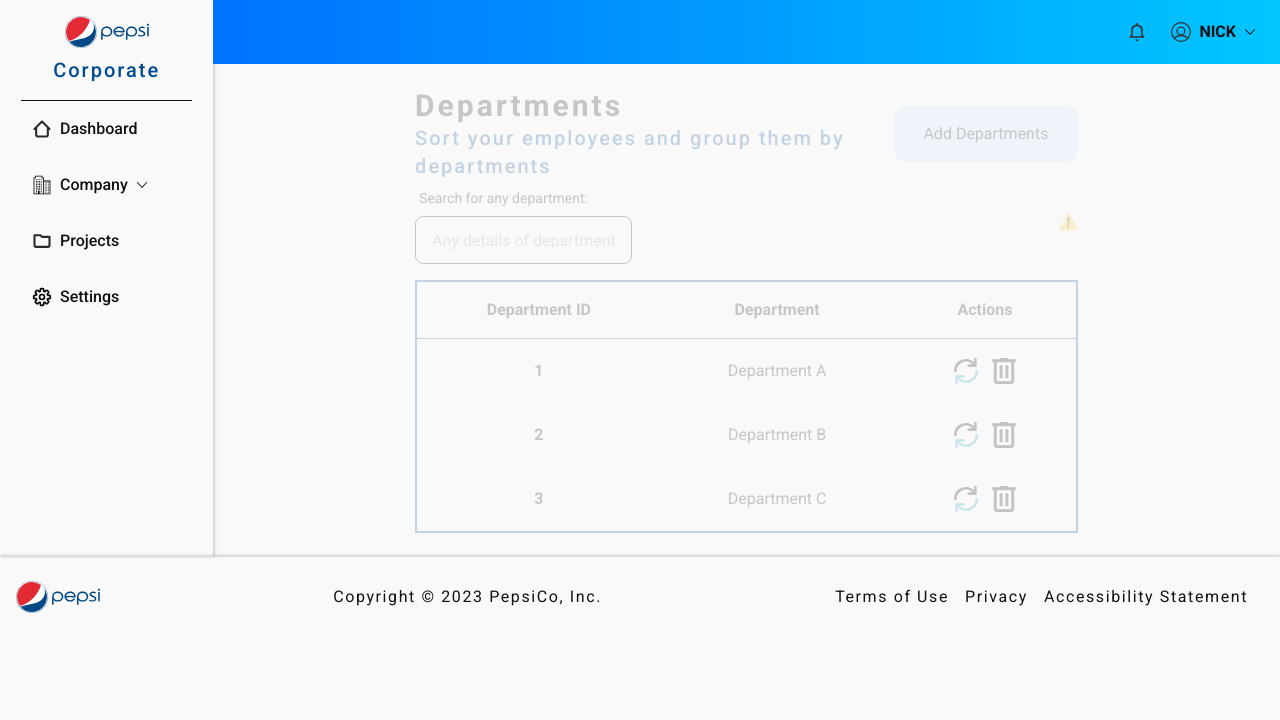
Test: Test modal hidden and display status when button is clicked › Modal is hidden when the cancel button is clicked
Click the button "Add Departments". click: [986, 134]
box: top-left (894, 106), bottom-right (1078, 162)
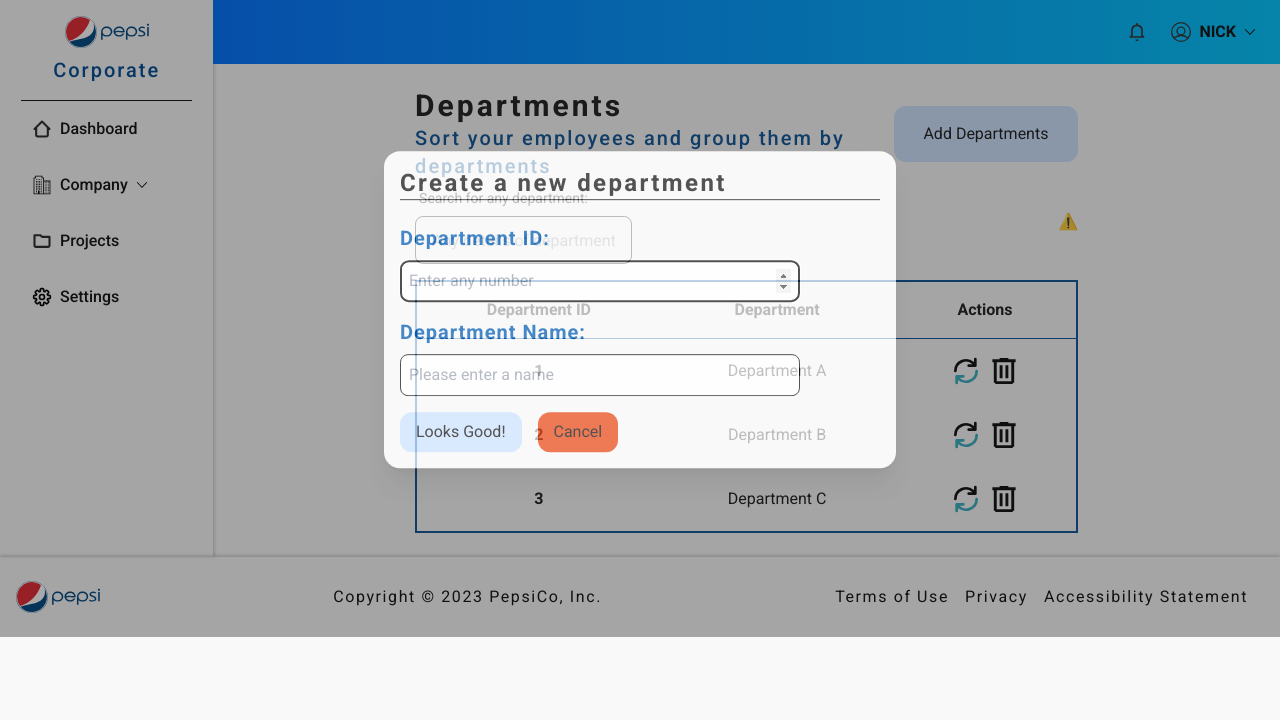
Click the button "Cancel". click: [578, 432]
box: top-left (538, 412), bottom-right (618, 452)
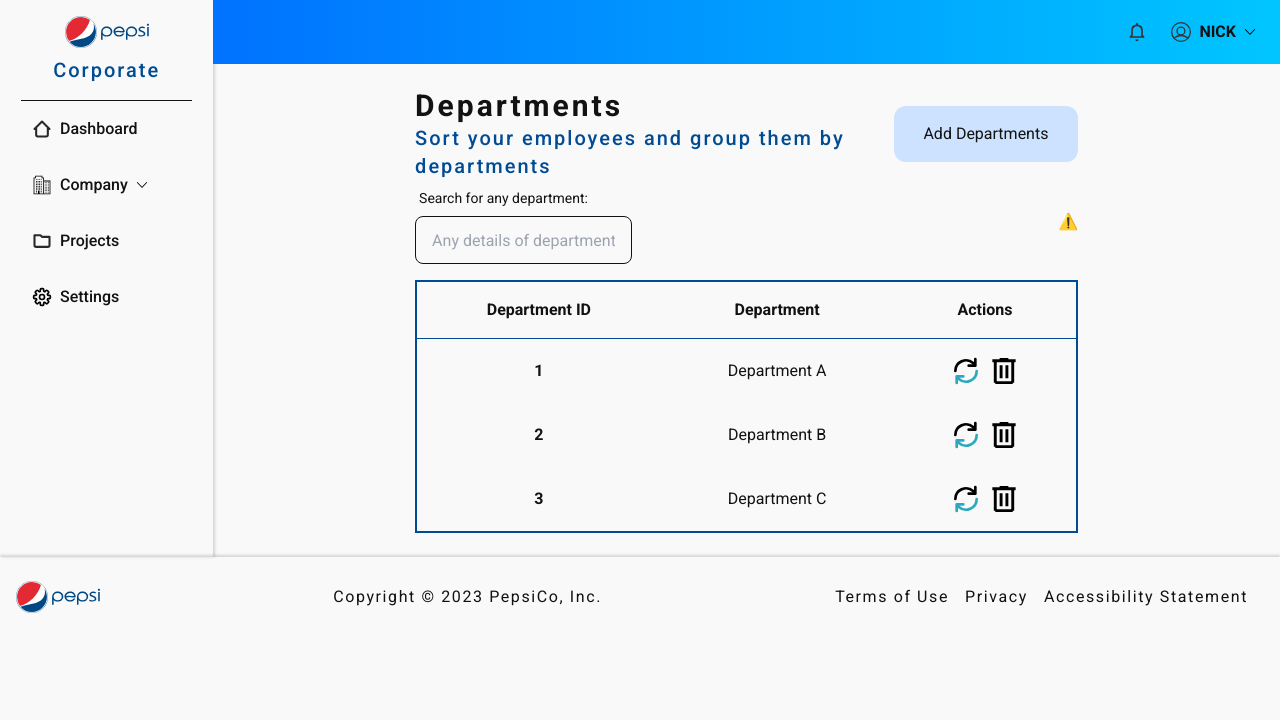
Result: the button "Cancel" is gone
